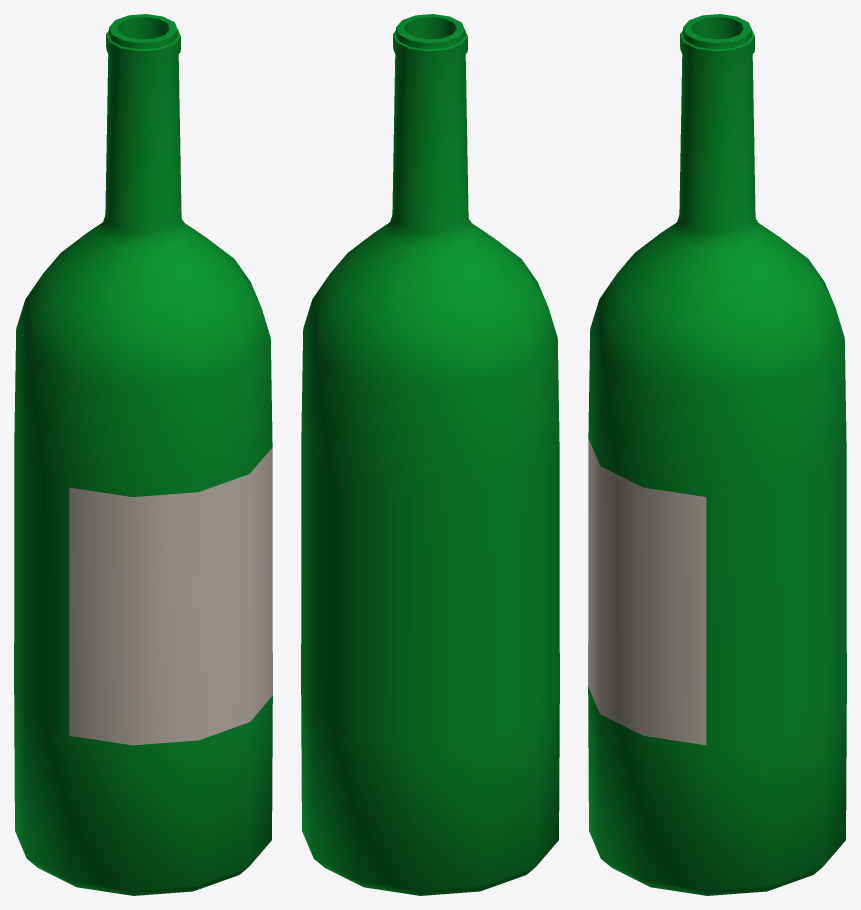
The model's file is Wine.fbx.
3 renders of one model, left to right at view 1: azimuth 30°, elevation 25°; view 2: azimuth 150°, elevation 25°; view 3: azimuth 270°, elevation 25°, orthographic.
Visible parts, largest first — view 1: Wine_bottle; view 2: Wine_bottle; view 3: Wine_bottle.
Boxes of the visible parts, x1=… form: Wine_bottle: x1=14, y1=14, x2=272, y2=895; Wine_bottle: x1=301, y1=14, x2=559, y2=895; Wine_bottle: x1=588, y1=14, x2=846, y2=895.
Bounding box in the file's own units: 13.97 × 48.75 × 13.97.
